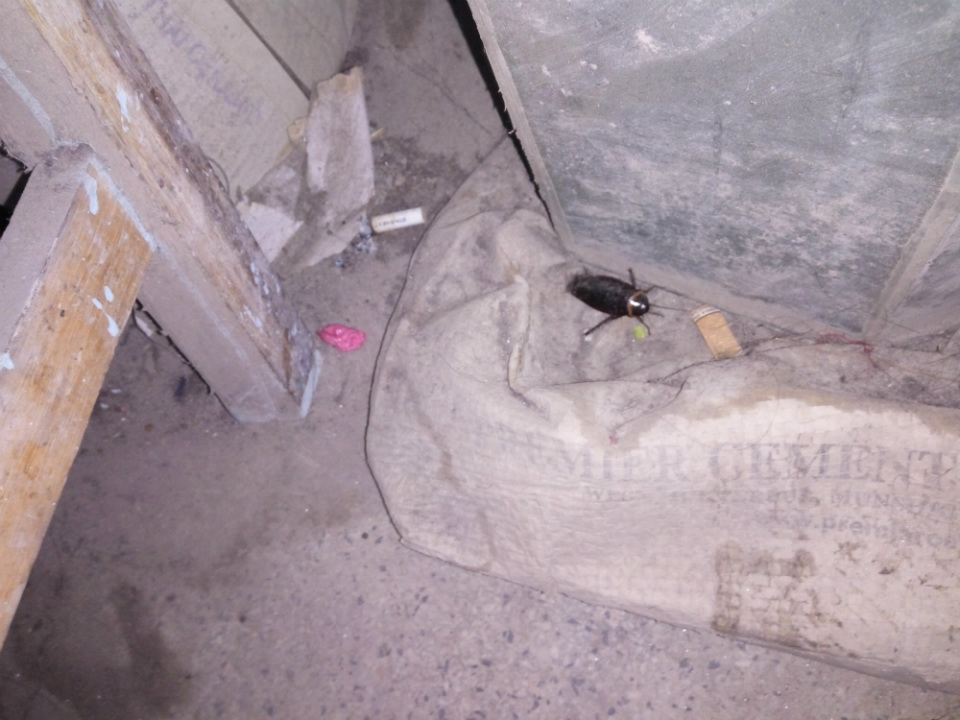cockroach: (475, 224, 703, 358)
